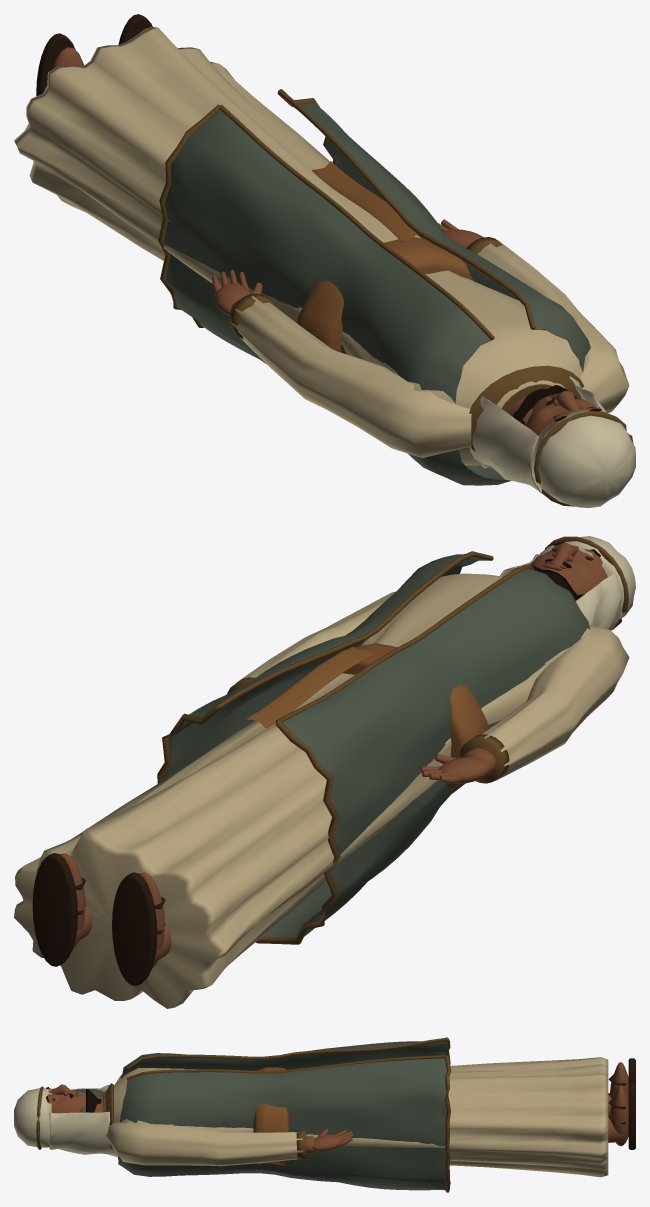
The model's file is SM_V3_Pilgrim_Man_A.obj.
The picture shows the model from 3 angles, top to bottom: view 1: azimuth 30°, elevation 25°; view 2: azimuth 150°, elevation 25°; view 3: azimuth 270°, elevation 25°; orthographic projection. The views are drawn at different scales.
Parts seen in each view (by area): view 1: Mantle, Tunic, SleeveR, HeadCap, SleeveL, HeadCloth, Sash, Collar, SashTail, MantleEdge-1, MantleEdge1, MantleHem (+3 smaller); view 2: Tunic, Mantle, SleeveR, SandalSoleR, SandalSoleL, MantleHem, SashTail, Sash, MantleEdge-1, HeadCloth, SleeveL, Head (+6 smaller); view 3: Mantle, Tunic, SleeveL, HeadCloth, HeadCap, MantleEdge1, Sash, MantleEdge-1, FootL, MantleHem, Head, SandalSoleL (+6 smaller).
Boxes of the visible parts, box(x1,y1,x2,y2) form: Mantle: box(163, 99, 590, 485); Tunic: box(14, 26, 591, 465); SleeveR: box(231, 296, 471, 458); HeadCap: box(532, 408, 635, 507); SleeveL: box(477, 240, 629, 412); HeadCloth: box(469, 376, 606, 496); Sash: box(297, 237, 473, 352); Collar: box(469, 365, 584, 451); SashTail: box(312, 161, 417, 242); MantleEdge-1: box(278, 89, 535, 329); MantleEdge1: box(219, 104, 494, 340); MantleHem: box(158, 89, 335, 327); Tunic: box(14, 573, 592, 1008); Mantle: box(164, 554, 590, 937); SleeveR: box(481, 625, 629, 780); SandalSoleR: box(112, 872, 157, 986); SandalSoleL: box(32, 853, 77, 966); MantleHem: box(157, 704, 340, 944); SashTail: box(247, 646, 372, 728); Sash: box(316, 643, 487, 790); MantleEdge-1: box(216, 551, 493, 708); HeadCloth: box(500, 554, 622, 630); SleeveL: box(237, 591, 395, 682); Head: box(530, 544, 607, 594); Mantle: box(118, 1041, 446, 1190); Tunic: box(103, 1057, 608, 1177); SleeveL: box(106, 1121, 303, 1166); HeadCloth: box(49, 1085, 118, 1157); HeadCap: box(14, 1088, 51, 1147); MantleEdge1: box(127, 1037, 446, 1068); Sash: box(253, 1067, 289, 1165); MantleEdge-1: box(126, 1055, 446, 1079); FootL: box(610, 1085, 628, 1146); MantleHem: box(444, 1037, 451, 1192); Head: box(46, 1088, 85, 1113); SandalSoleL: box(628, 1081, 635, 1149).
Bounding box in the file's own units: 57.14 × 43.78 × 179.
